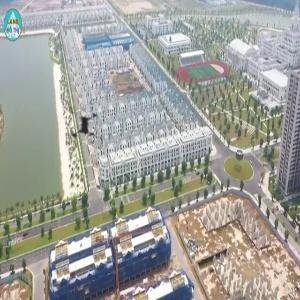drone: (46, 84, 127, 165)
